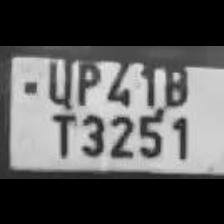1: (164, 110, 194, 160), (134, 53, 162, 103)
2: (104, 109, 134, 159)
3: (75, 107, 105, 157)
4: (102, 50, 136, 104)
5: (134, 108, 166, 158)
B: (158, 55, 190, 105)
P: (72, 53, 100, 103)
T: (43, 107, 76, 157)
U: (43, 52, 74, 104)
